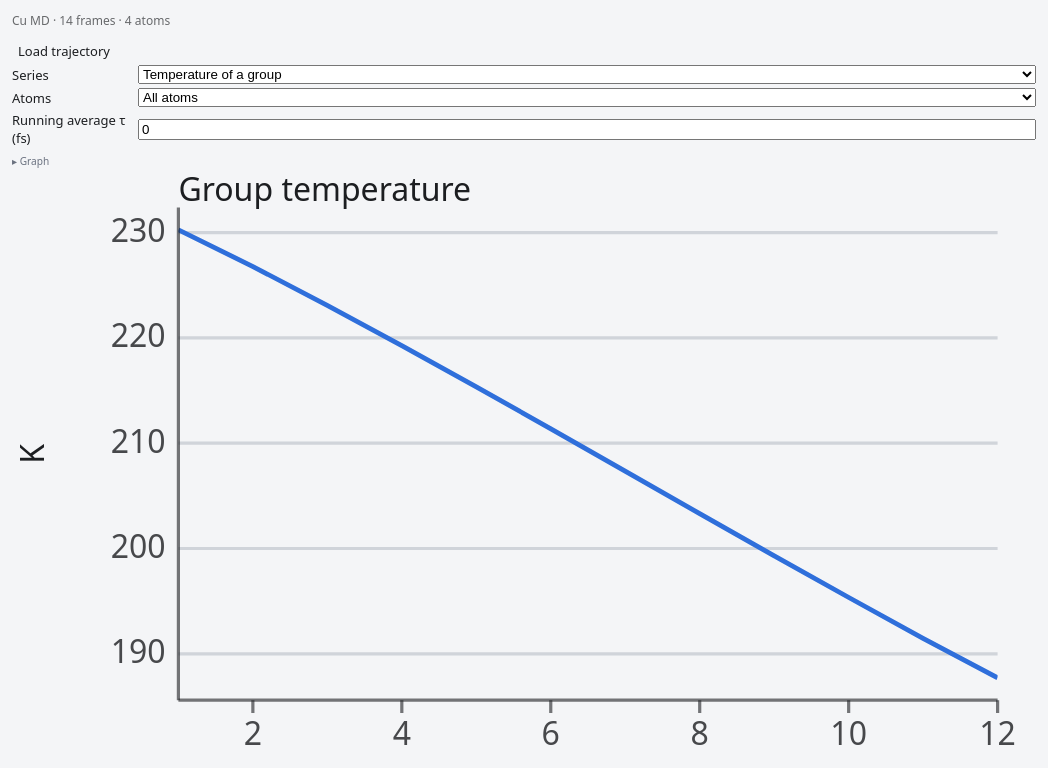
Test: takes a term from the viewport selection, and says what it needs
Select "Internal coordinate / mode" in the dropdown labelled "Series" at point(587, 74), box [138,65,1036,84]
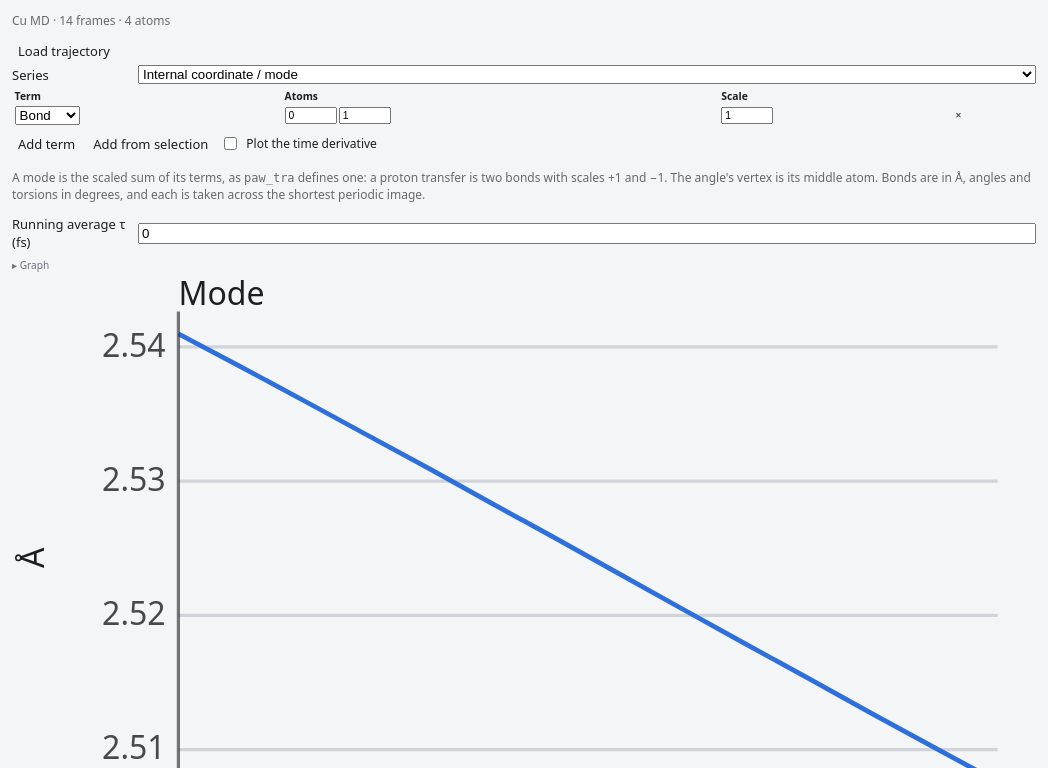
Click the button "Add from selection" at point(151, 144), box [87,134,214,154]
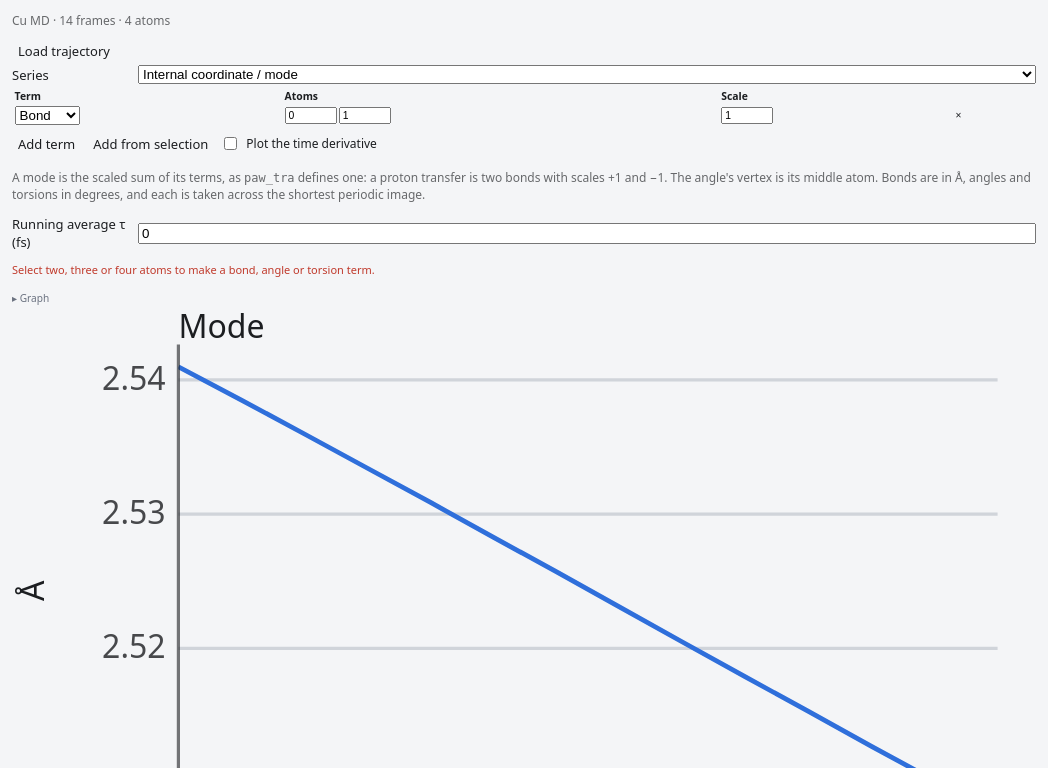
Expected: the text "Select two, three or four atoms" is shown, [12,262,375,277]
Click the button "Add from selection" at point(151, 144), box [87,134,214,154]
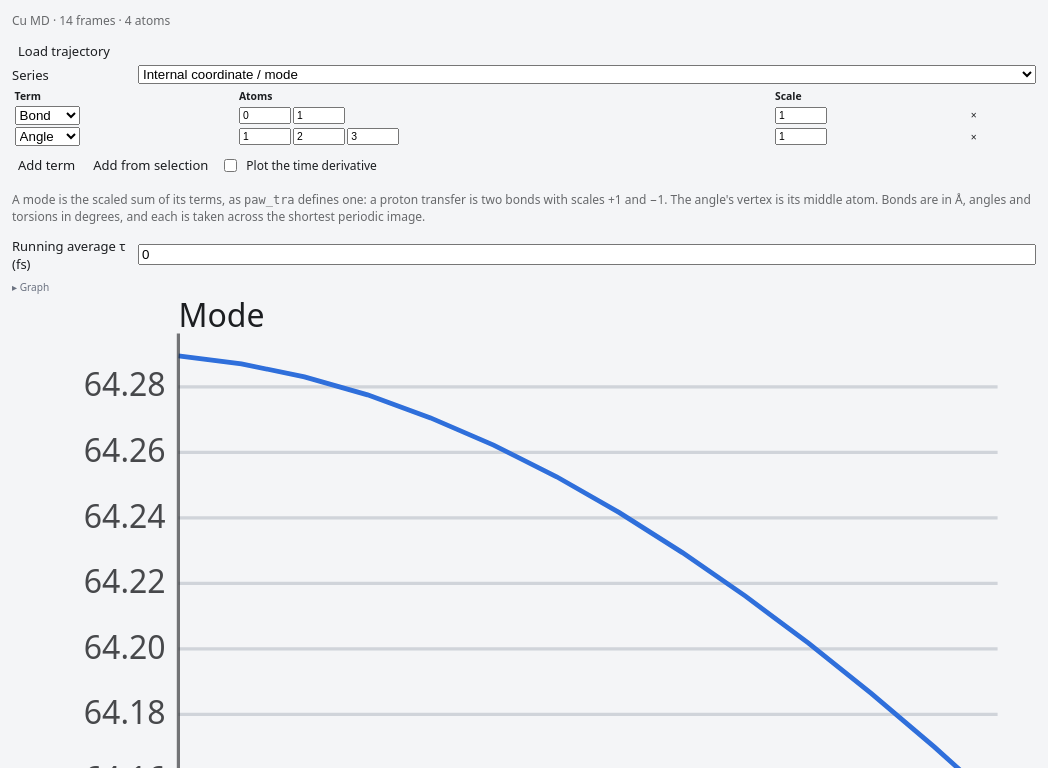
Expected: the dropdown named "Term 2 kind" shows "Angle", [15,128,80,146]
Expected: the number field named "Term 2 atom 3" holds "3", [347,128,400,146]
